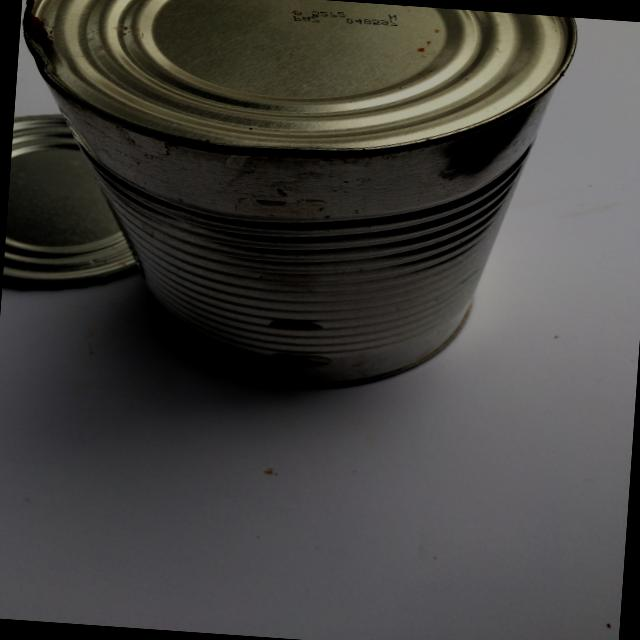Metal: (0, 0, 594, 463)
